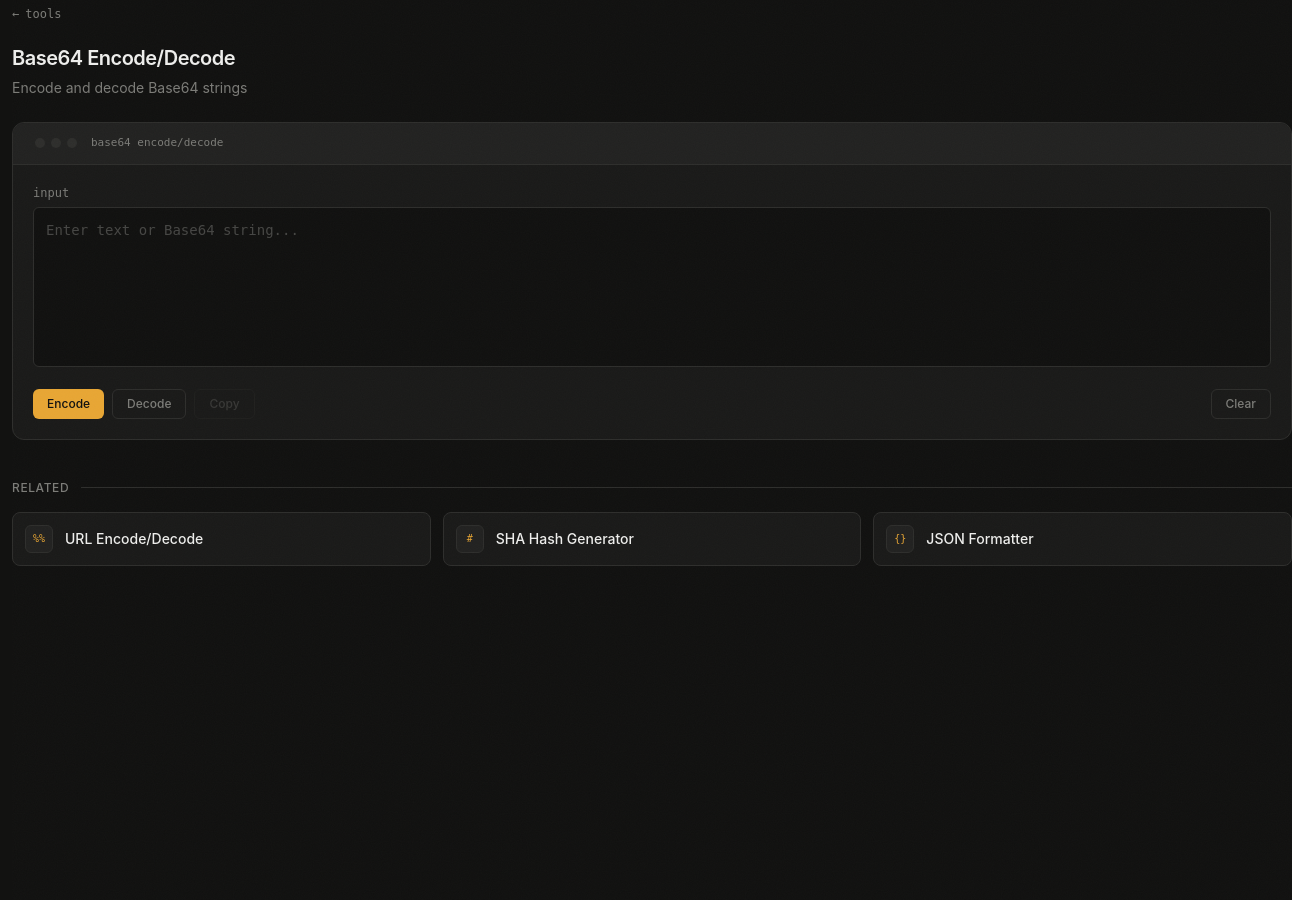
Test: Base64 Encode/Decode › encodes text to Base64
The image size is (1292, 900).
Type "Hello, World!" into the text box with placeholder "Enter text or Base64 string..." at (652, 286), box left=33, top=206, right=1271, bottom=366
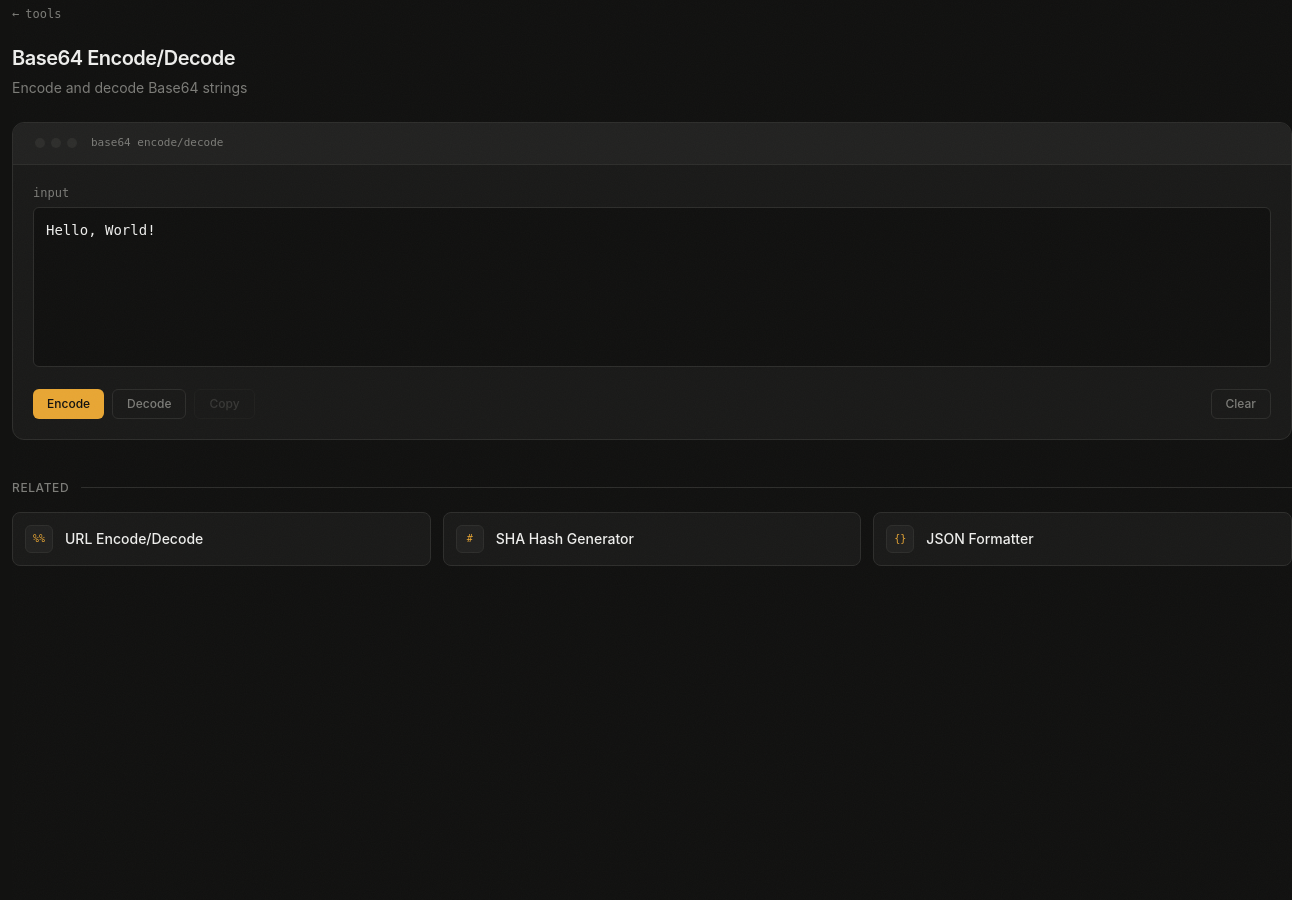
Click the button "Encode" at (69, 404), box left=33, top=388, right=104, bottom=418
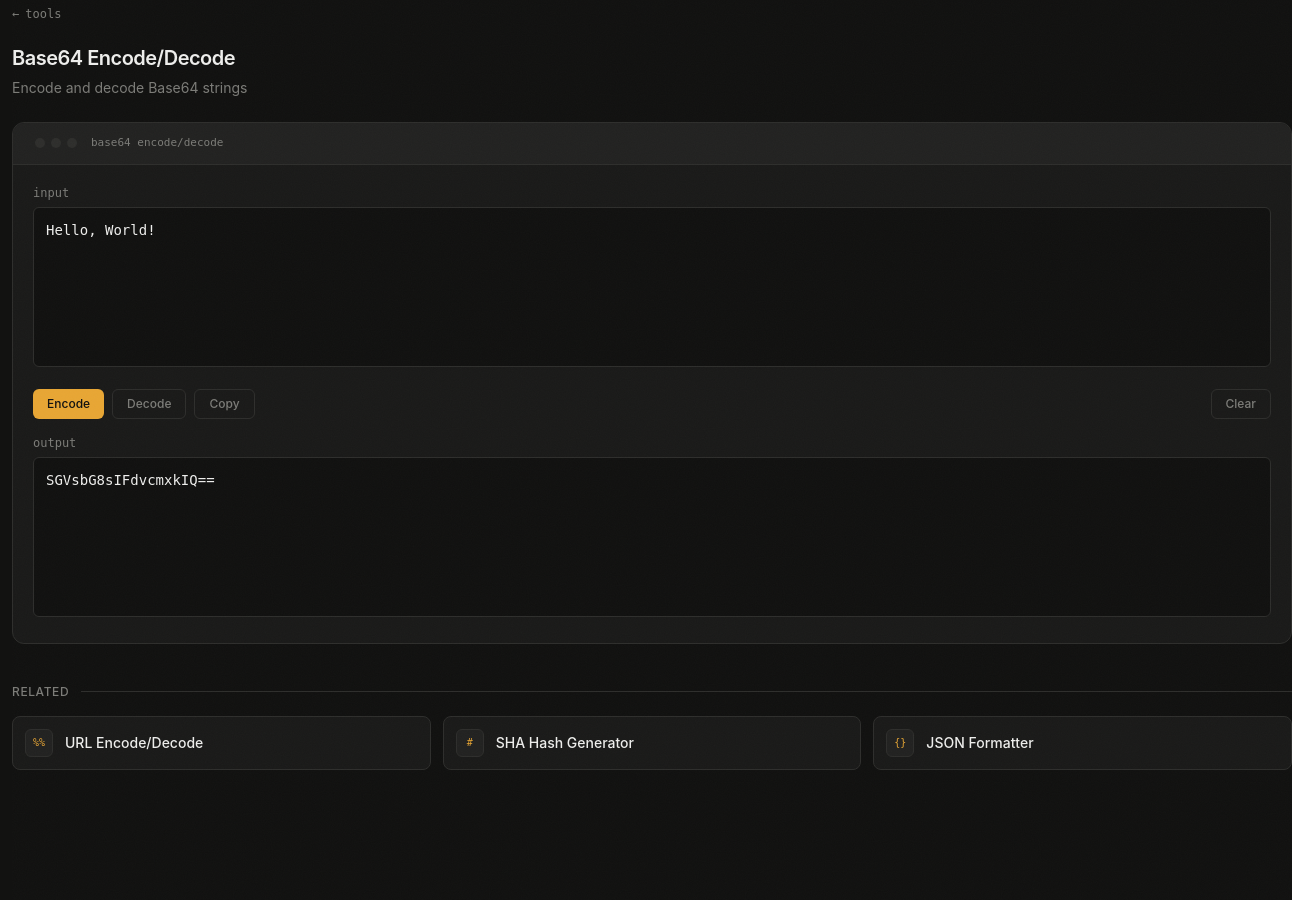
Result: the text box showing "SGVsbG8sIFdvcmxkIQ==" below "output" is shown at left=33, top=456, right=1271, bottom=616
